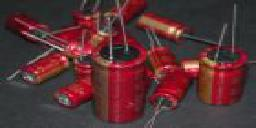Electrolytic Capacitor: (89, 2, 149, 123), (196, 1, 250, 121)
